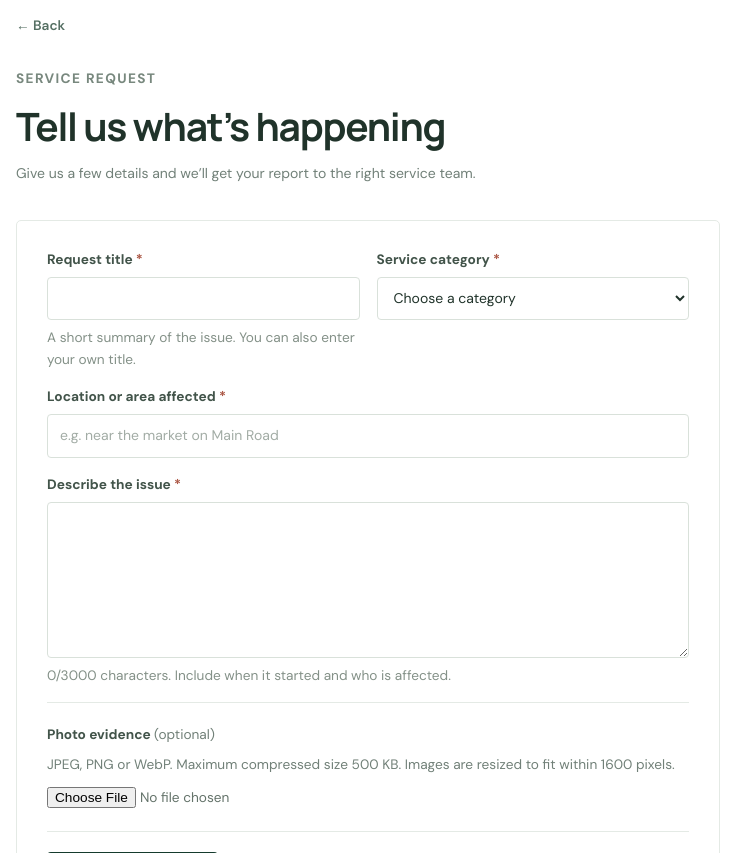
Scenario: request form category routing › shows server field errors beside their inputs and clears only an edited error
Type "Hi" into the field labelled "Request title *" at [203, 299], box [47,277,360,320]
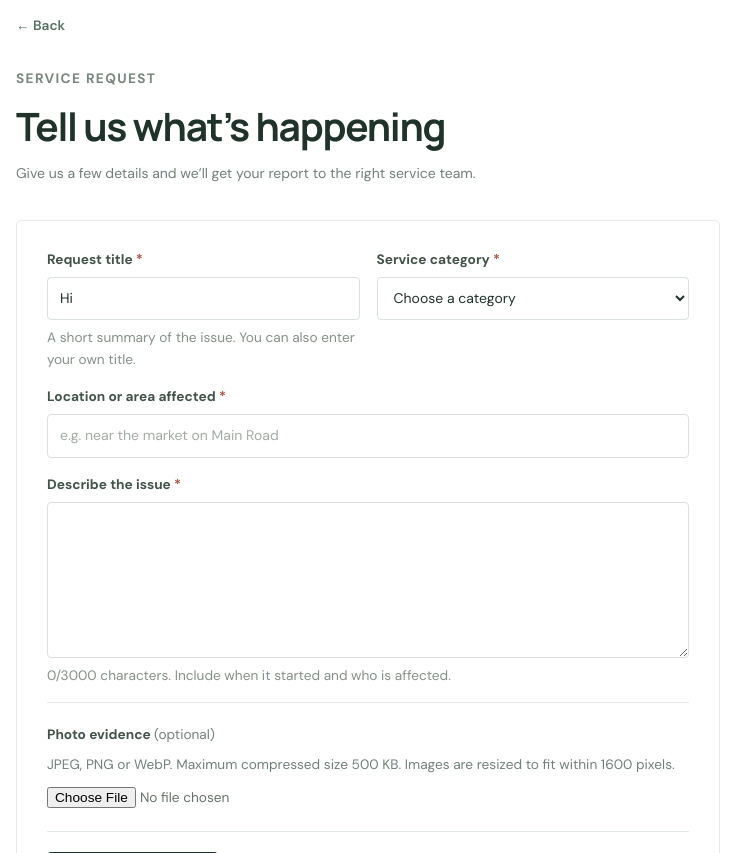
Select "Waste Management" in the dropdown labelled "Service category *" at [533, 298], box [376,277,689,320]
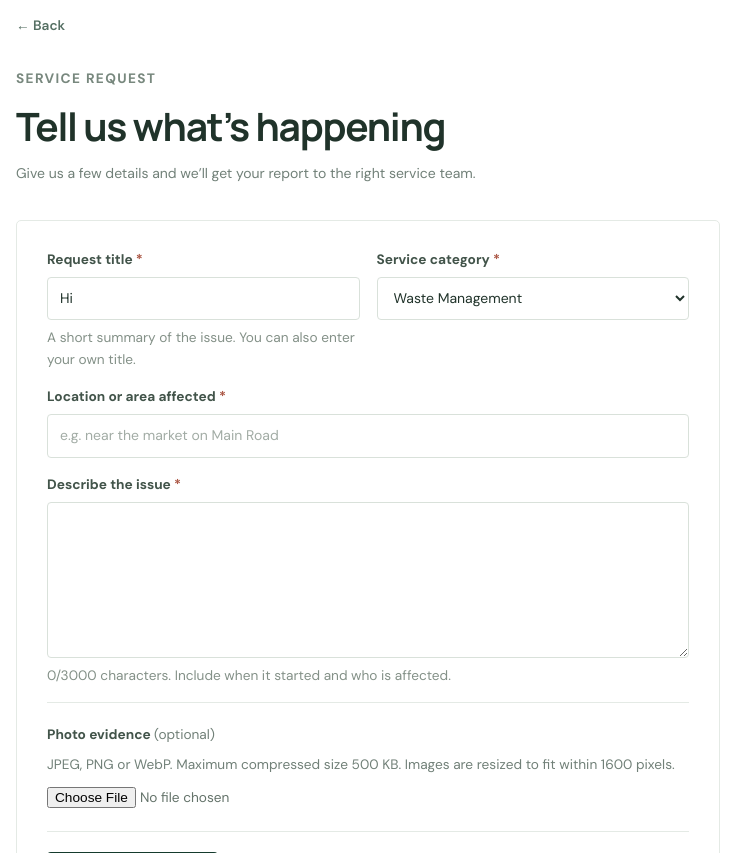
Type "Ny" into the field labelled "Location or area affected *" at [368, 436], box [47,414,689,458]
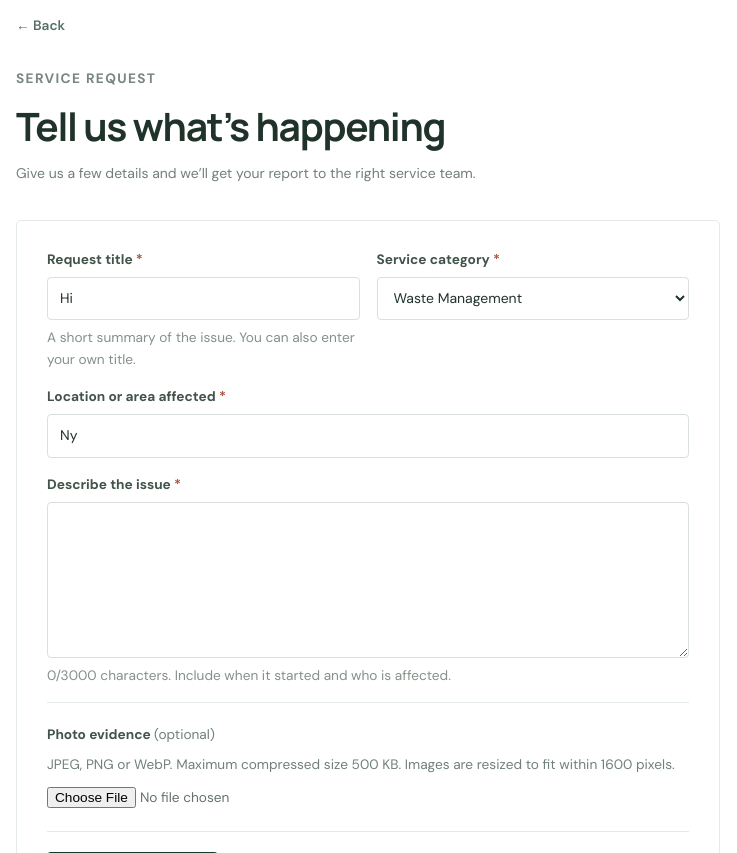
Type "Garbage collection has stopped in the area." into the text box labelled "Describe the issue *" at [368, 580], box [47,502,689,658]
(page scrolled)
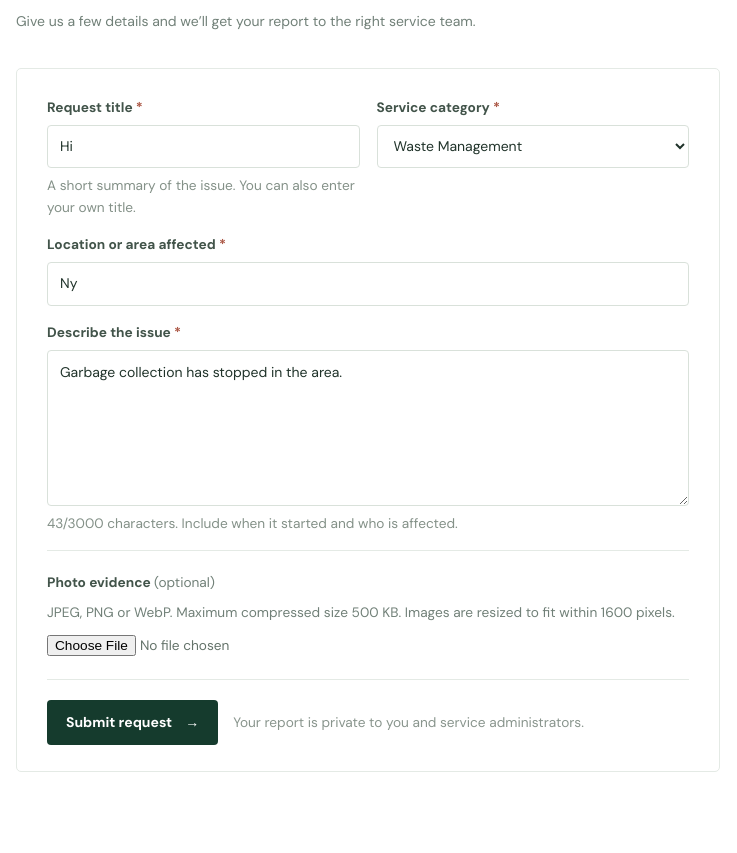
Click the button "Submit request →" at [133, 723], box [47,700,218,745]
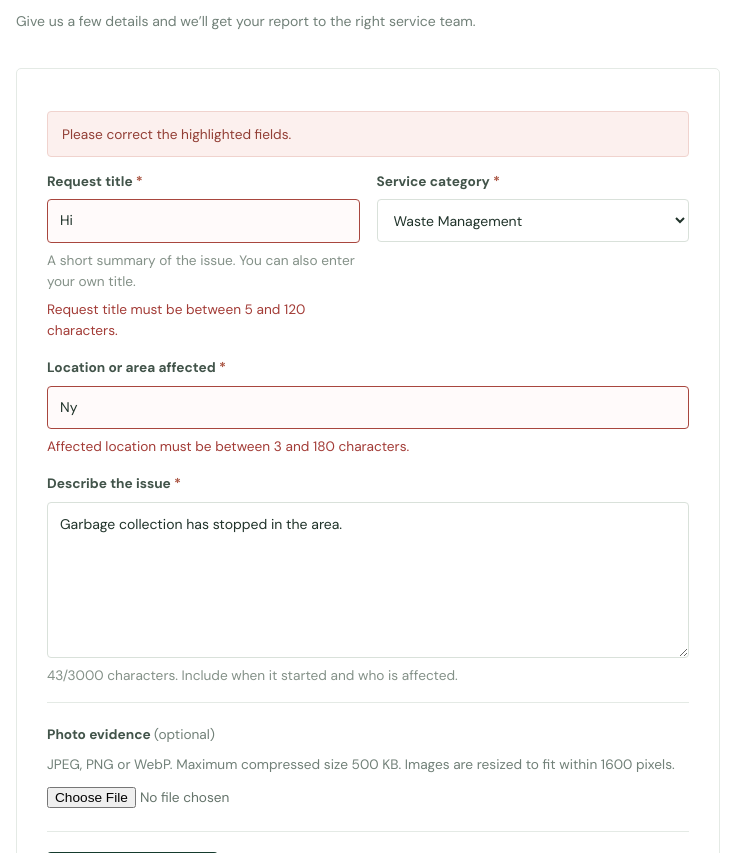
Result: the text "Request title must be between 5 and 120 characters." is shown at [47,300,305,339]
Result: the text "Affected location must be between 3 and 180 characters." is shown at [47,437,409,455]
Replace the text in the field labelled "Request title *" with "Broken streetlight" at [203, 221], box [47,199,360,243]
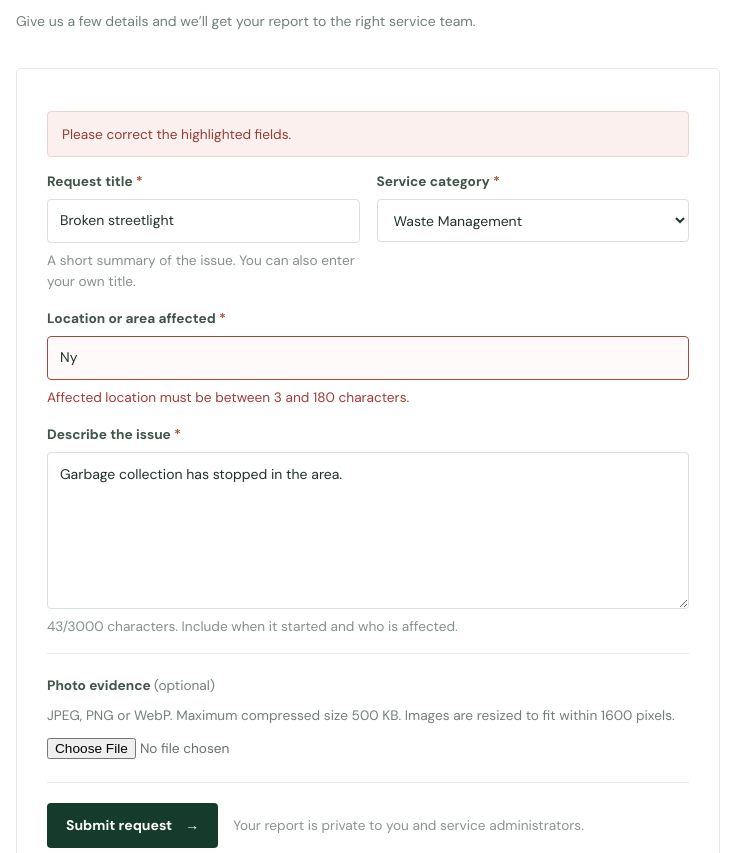
Result: the message reads "Please correct the highlighted fields." at [62,124,291,142]
Result: the text "Request title must be between" is gone
